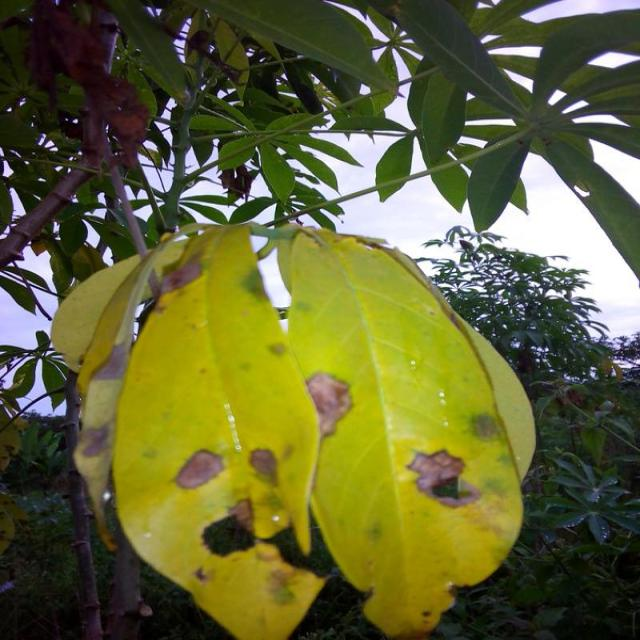cassava leaf: (279, 224, 538, 637), (110, 221, 329, 638)
